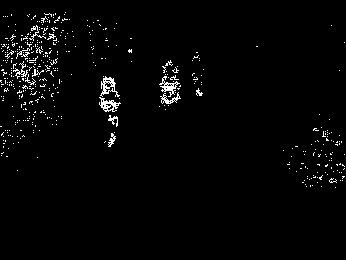person: (93, 74, 123, 152)
